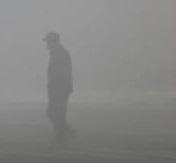person: (37, 30, 75, 142)
